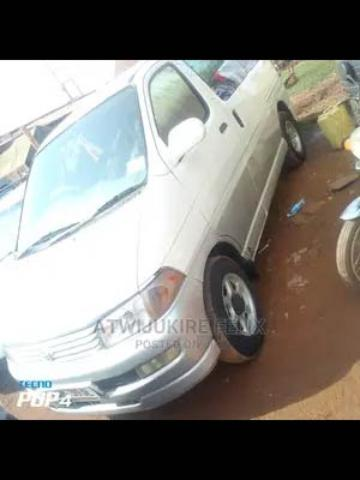van: (3, 65, 304, 410)
